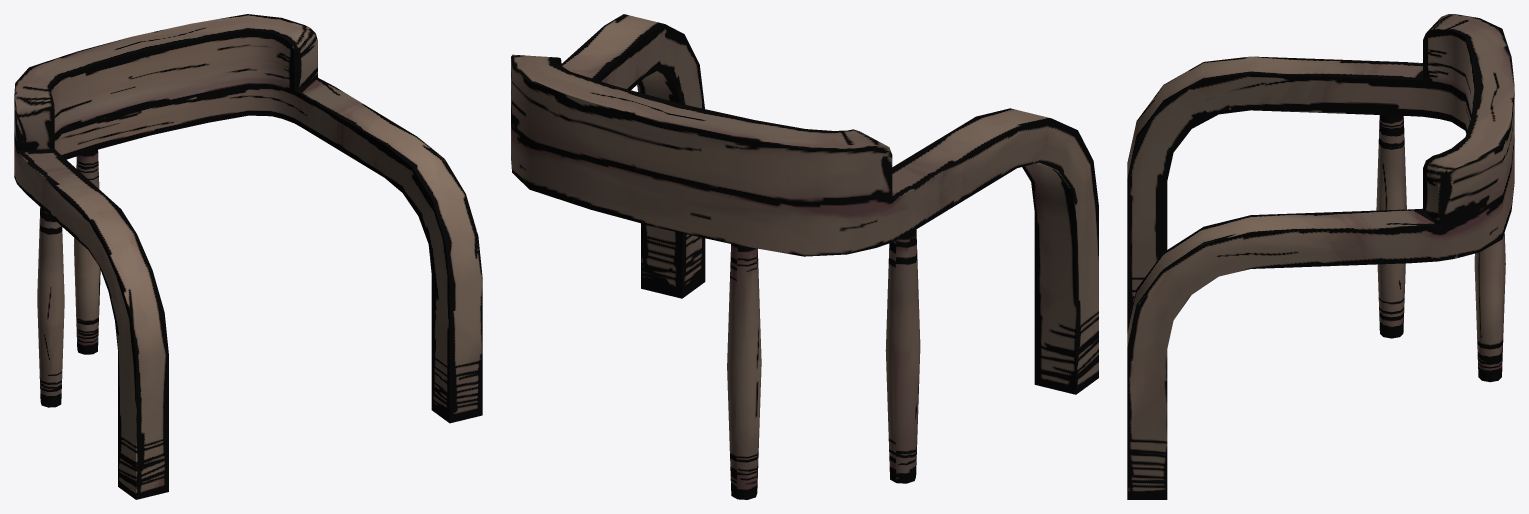
File: armchair_gib2.fbx
The picture shows the model from 3 angles, left to right: view 1: azimuth 30°, elevation 25°; view 2: azimuth 150°, elevation 25°; view 3: azimuth 270°, elevation 25°; orthographic projection. The views are drawn at different scales.
Parts seen in each view (by area): view 1: armchair_gib2; view 2: armchair_gib2; view 3: armchair_gib2.
Part boxes in pixels (left/top/right/bottom): armchair_gib2: left=14, top=14, right=482, bottom=499; armchair_gib2: left=511, top=14, right=1098, bottom=499; armchair_gib2: left=1127, top=14, right=1514, bottom=499.
Size of the model in its own units: 212 by 170 by 187.
